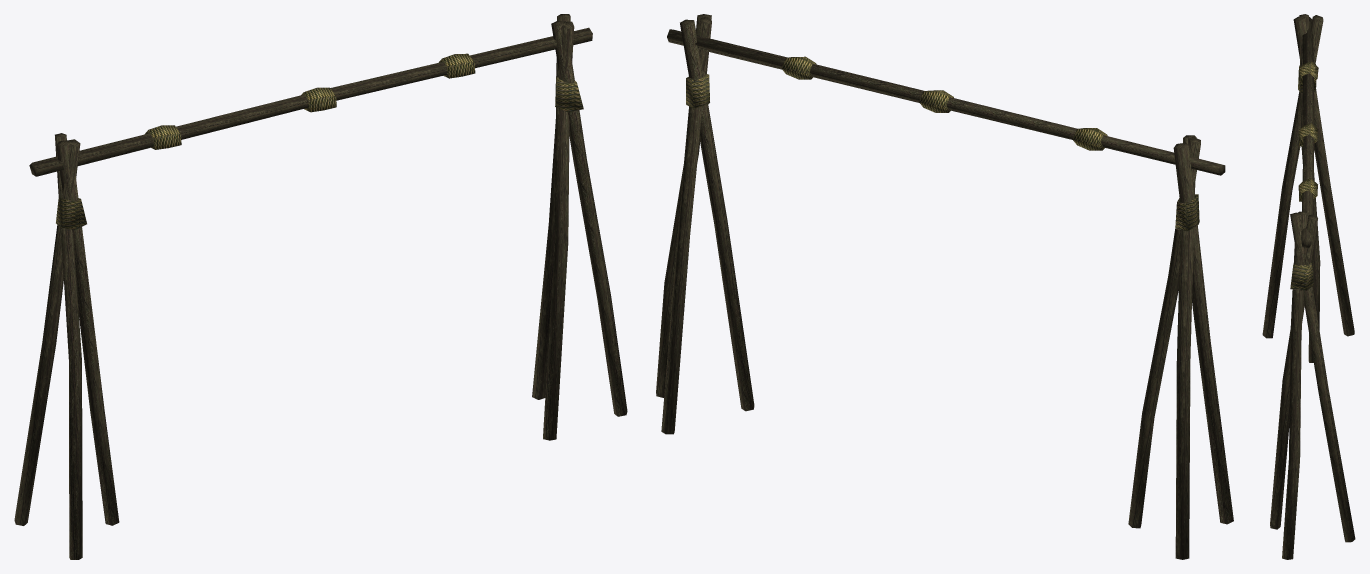
The model's file is OC_CHICKENSTICK_V01.glb.
The picture shows the model from 3 angles, left to right: view 1: azimuth 30°, elevation 25°; view 2: azimuth 150°, elevation 25°; view 3: azimuth 270°, elevation 25°; orthographic projection. The views are drawn at different scales.
Parts seen in each view (by area): view 1: Mesh; view 2: Mesh; view 3: Mesh.
Boxes of the visible parts, bbox=[...] form: Mesh: bbox=[14, 14, 627, 559]; Mesh: bbox=[656, 14, 1233, 559]; Mesh: bbox=[1262, 14, 1355, 559].
Bounding box in the file's own units: 3.95 × 2.58 × 0.6683.
2 materials, 2 textured.
